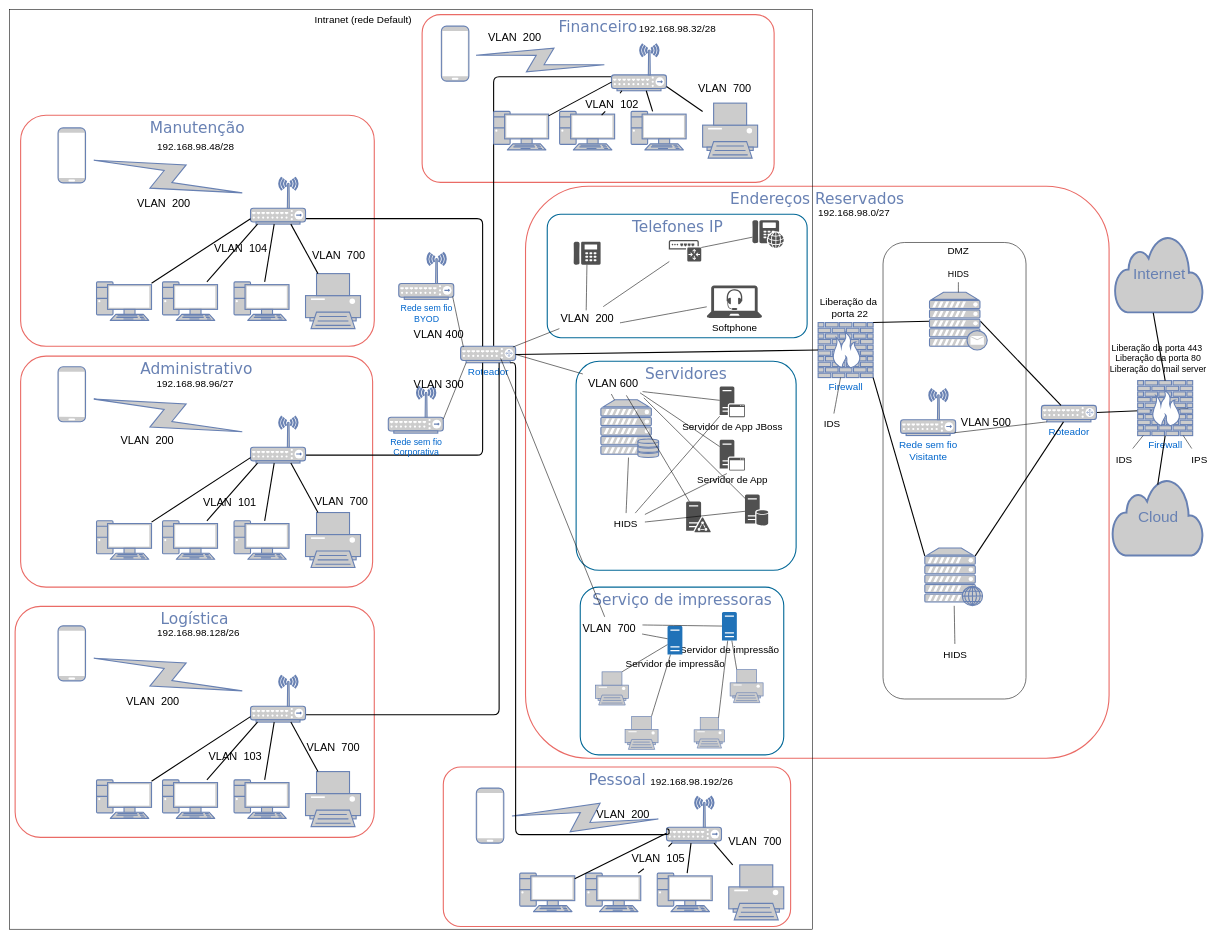
Image size: 1222x939. Some labels were removed from this diagram. The centre of each missing label's shape, as x and y in pixels:
Linhas SIP: point 767,234
PBX IP: point 685,250
Servidor A.D.: point 698,516
Servidor de arquivos: point 629,428
servidor de email: point 958,321
Servidor SGDB: point 756,509
Servidor Web: point 953,576
Tel. IP: point 586,253
